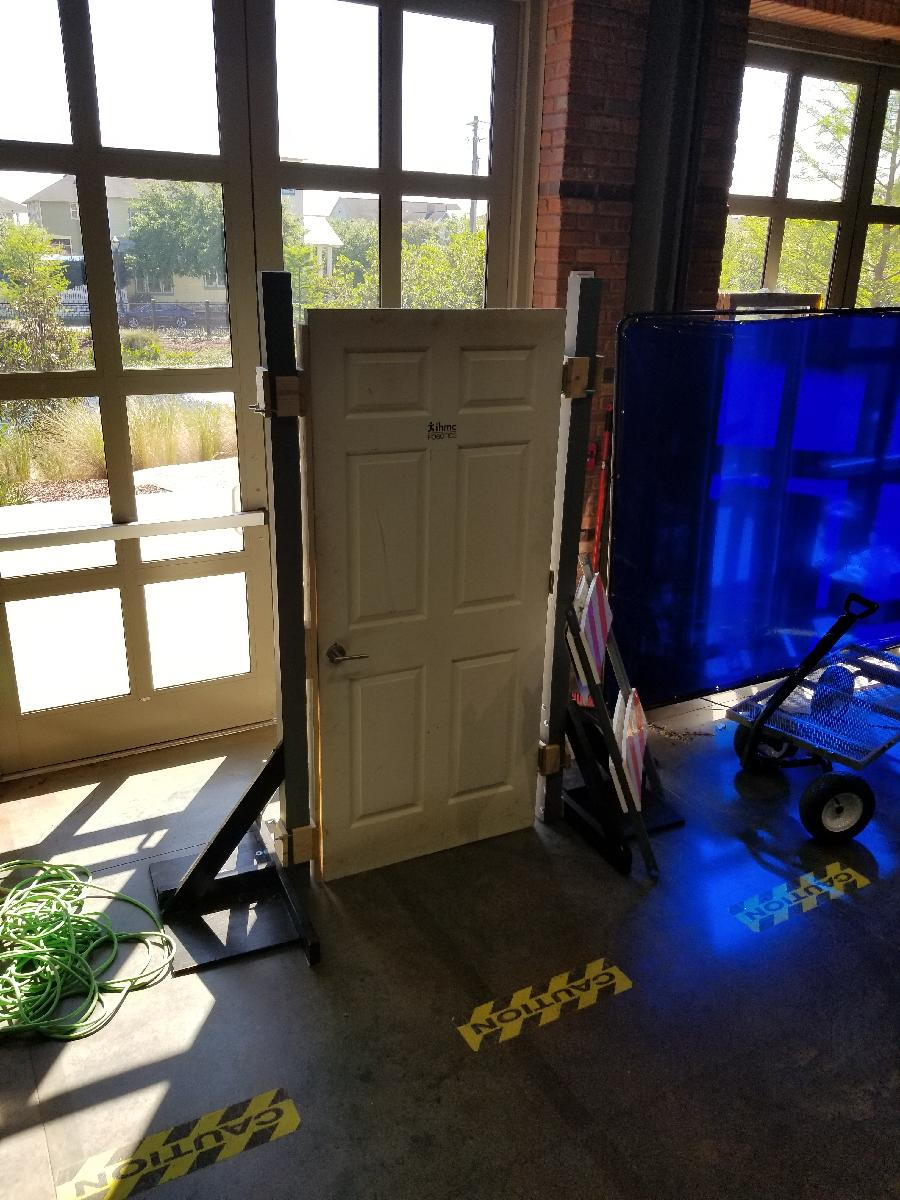door: (303, 307, 568, 883)
doorHandle: (324, 638, 371, 675)
